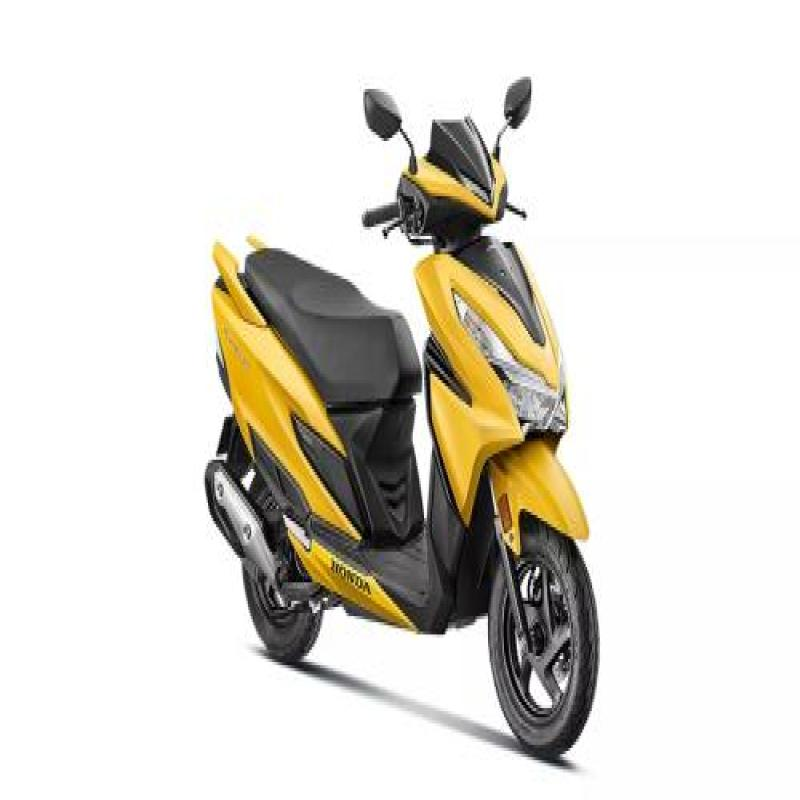bike: (182, 31, 612, 761)
